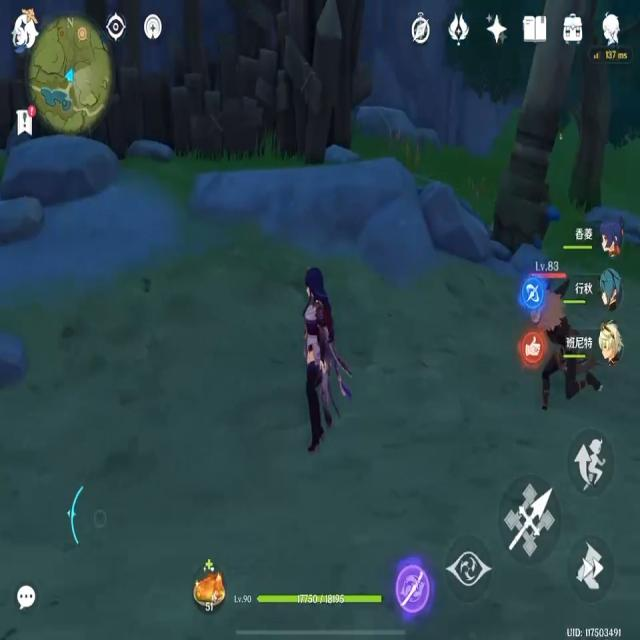genshin-hilichurls: (546, 286, 569, 402)
